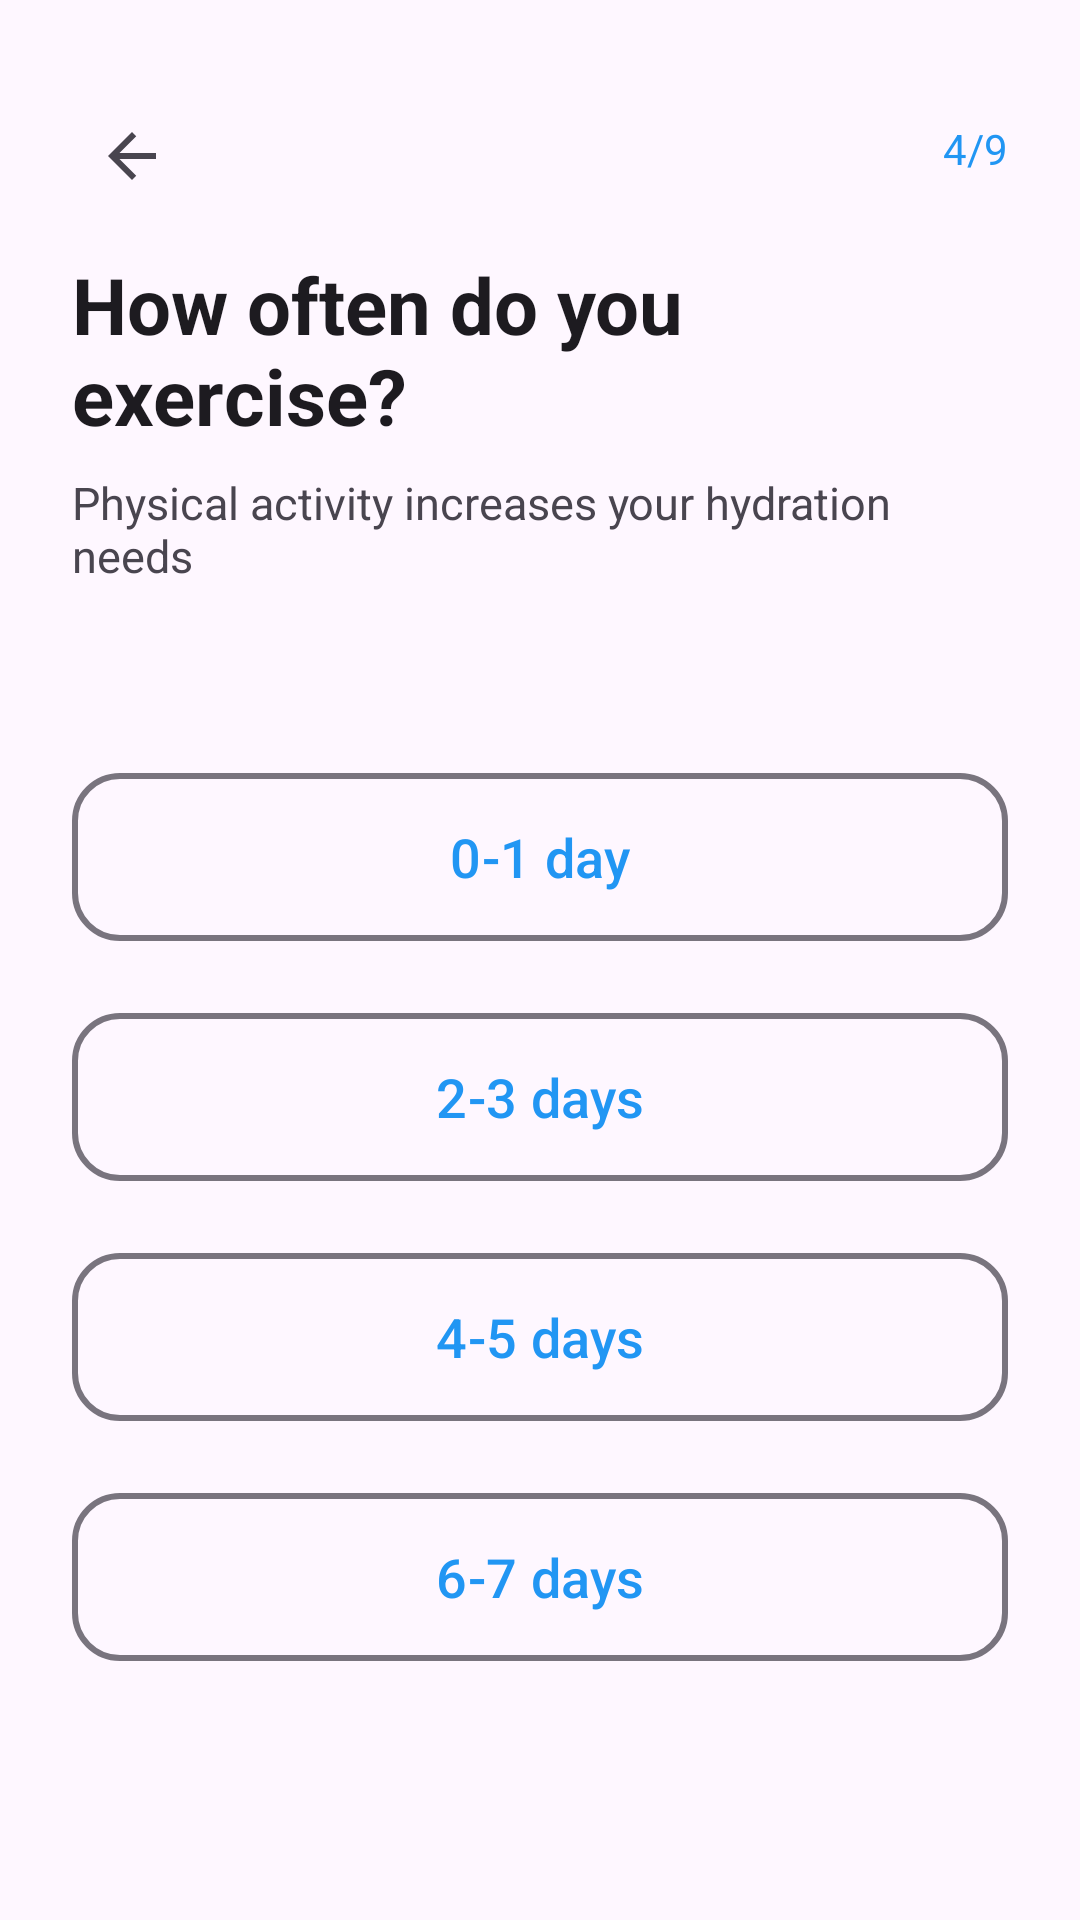

Named icons in this screenshot (1080×1920) and their bounding boxes, box(x1, y1, x2, y2):
Go back: box(108, 132, 156, 180)
